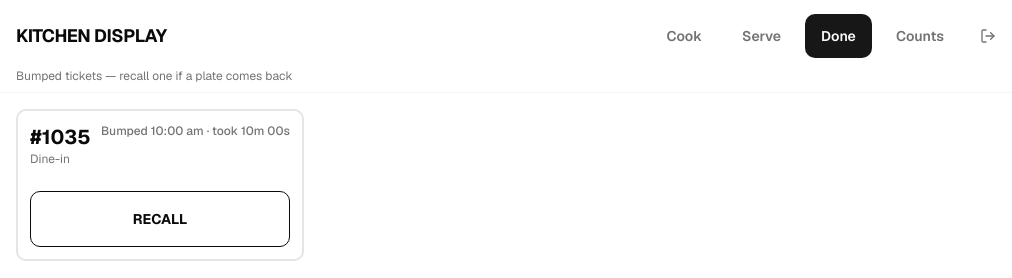
Test: BumpedViewScreen › recalls a bumped ticket with a single tap, no confirmation, and it drops off the list on the next poll
Click the button with test id "kds-ticket-t1-recall": (160, 219) left=30, top=191, right=290, bottom=247
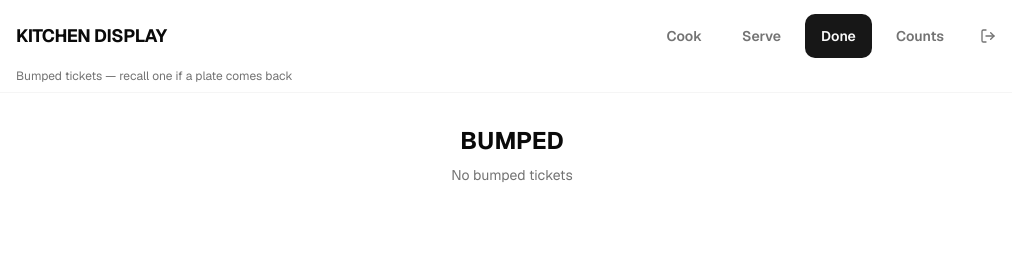
expect the element with test id "kds-ticket-t1" is gone: met
expect the text "Bumped" is shown: met, box left=460, top=125, right=564, bottom=157
